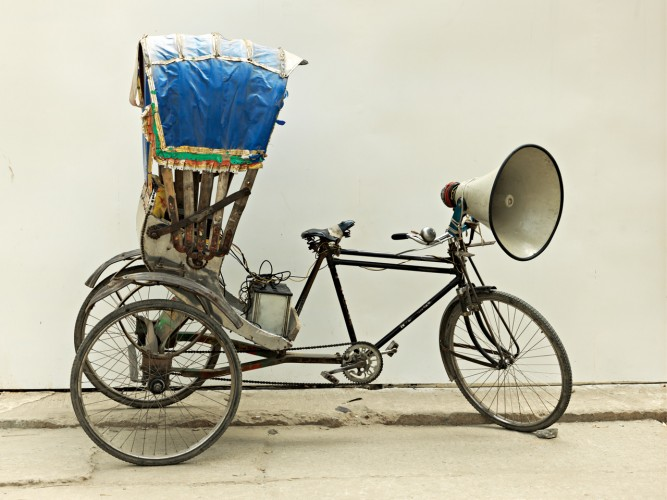Rickshaw: (65, 28, 580, 455)
